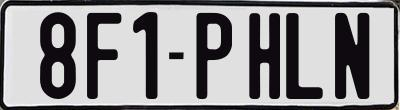1: (130, 9, 160, 99)
8: (38, 11, 77, 100)
F: (86, 13, 121, 99)
H: (249, 13, 281, 103)
L: (284, 10, 325, 99)
N: (334, 10, 370, 99)
P: (195, 11, 231, 99)
